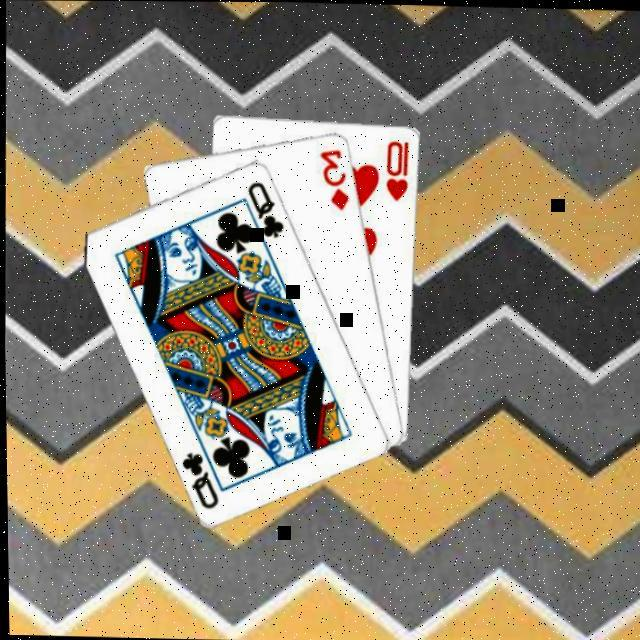10H: (380, 140, 410, 204)
3D: (314, 146, 350, 214)
QC: (241, 178, 286, 242), (175, 450, 220, 512)
